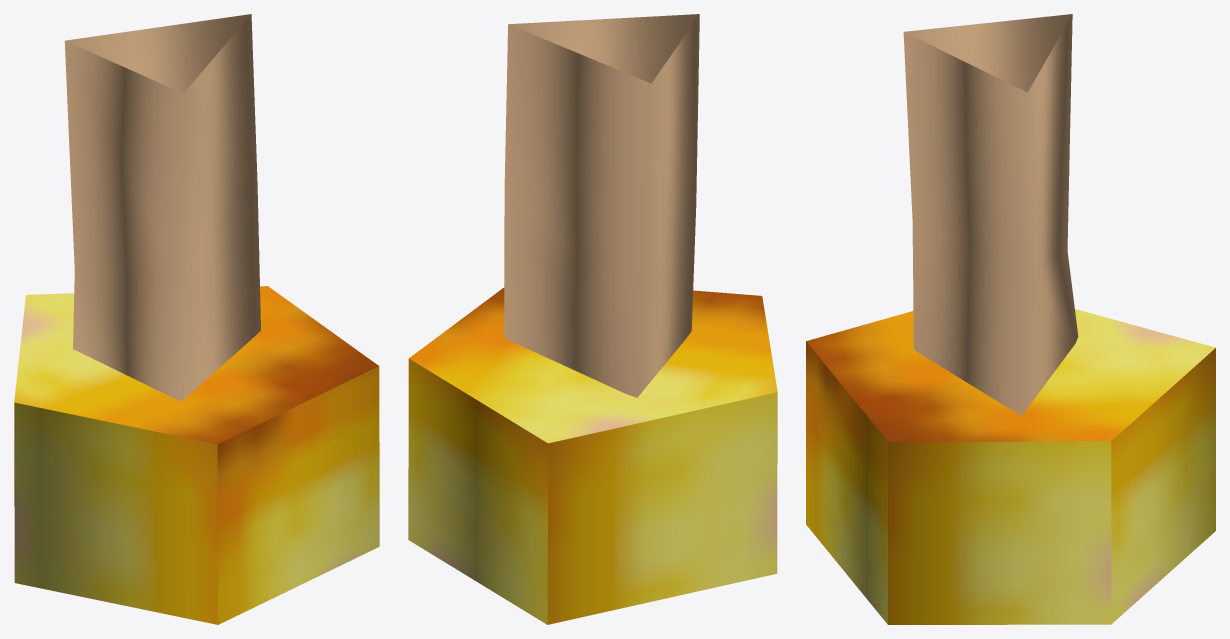
File: Forearm.obj
3 views of the same model, side by side, from view 1: azimuth 30°, elevation 25°; view 2: azimuth 150°, elevation 25°; view 3: azimuth 270°, elevation 25° (orthographic).
Size of the model in its own units: 1.12 by 1.71 by 1.26.
Materials: 1 (1 with a texture image).
